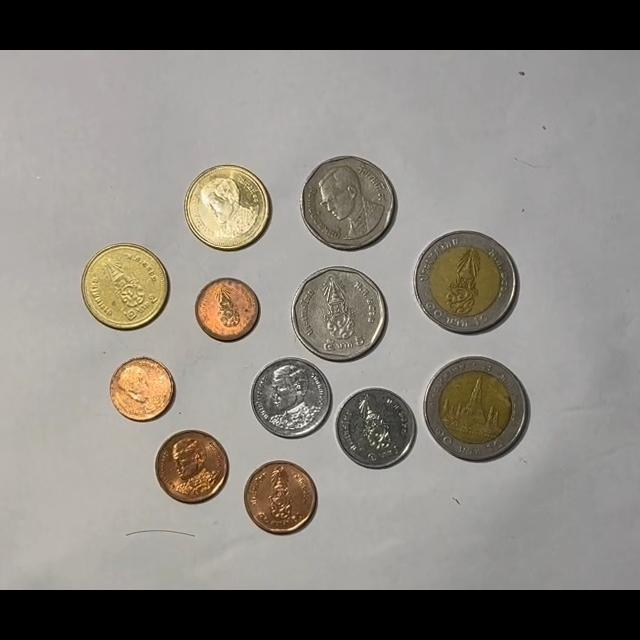1-baht: (334, 386, 417, 469), (250, 357, 332, 439)
10-baht: (423, 356, 529, 462), (413, 230, 519, 334)
2-baht: (81, 243, 168, 330), (184, 164, 271, 251)
25-satang: (109, 356, 176, 422), (195, 277, 261, 342)
5-baht: (292, 266, 388, 361), (300, 156, 397, 250)
50-satang: (155, 430, 229, 504), (244, 460, 317, 534)
